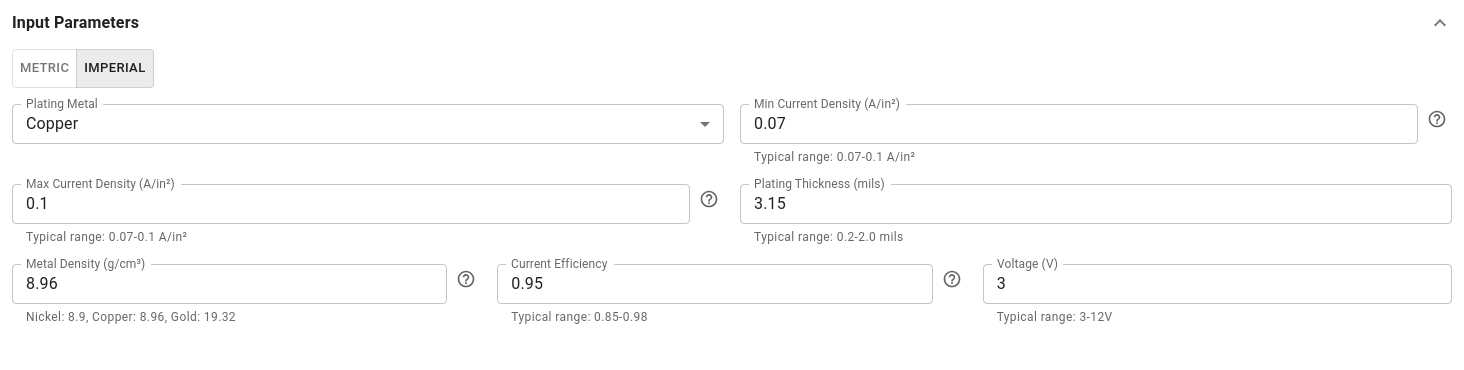
Scenario: ElectroplatingCalculator › handles form input changes correctly
Check: the number field labelled "Min Current Density (A/in²)" holds "0.07", box left=740, top=104, right=1418, bottom=144
Check: the number field labelled "Max Current Density (A/in²)" holds "0.1", box left=12, top=184, right=690, bottom=224
Test that changing the metal changes the values
Click the dropdown at (52, 124), box left=26, top=114, right=78, bottom=133
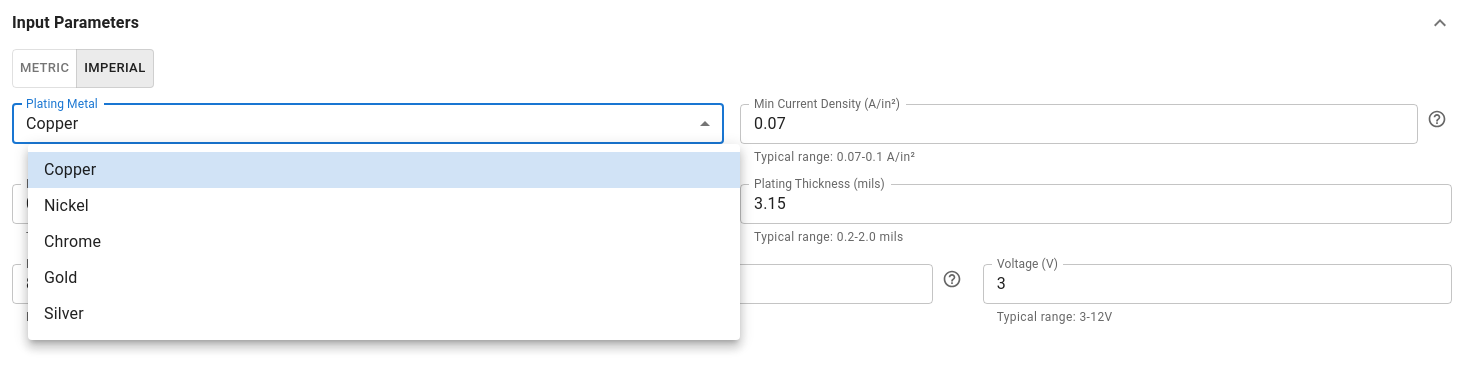
Click the option "Nickel" at (66, 206), box left=44, top=196, right=89, bottom=215
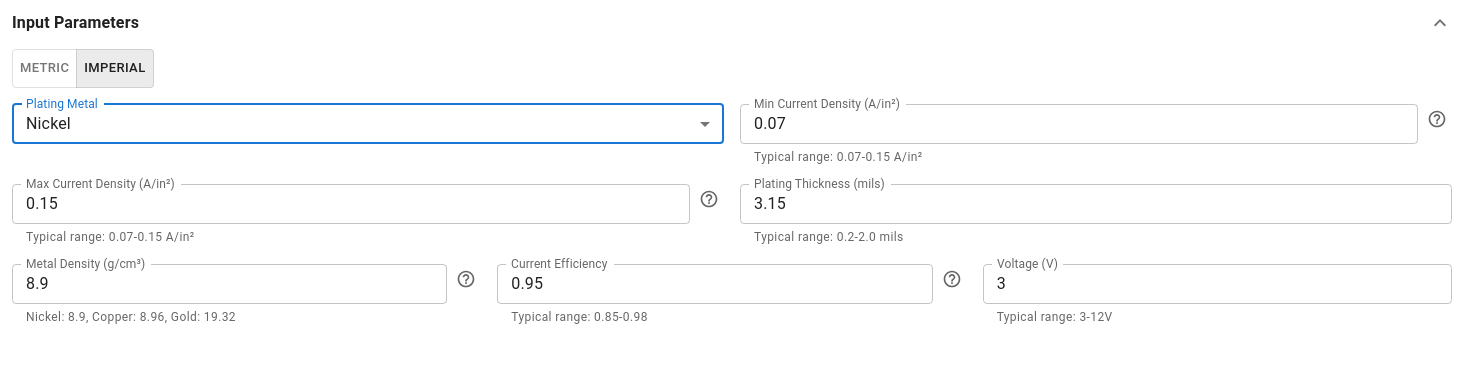
Check: the number field labelled "Metal Density (g/cm³)" holds "8.9", box left=12, top=264, right=447, bottom=304
